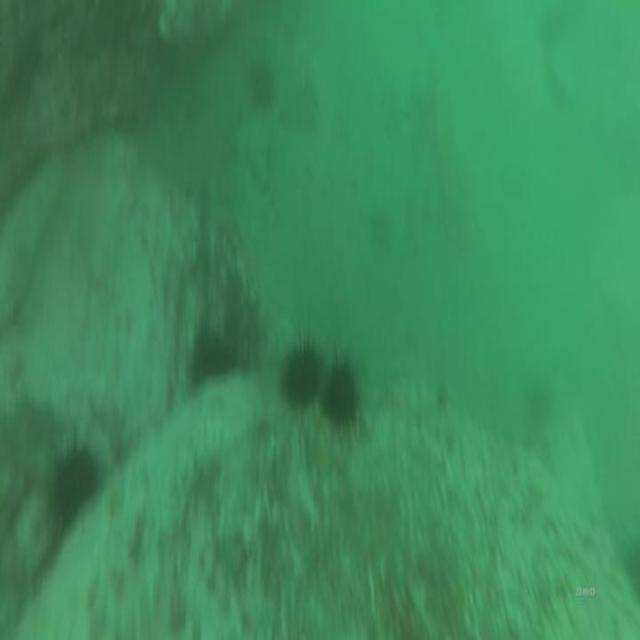echinus: (45, 430, 103, 531), (318, 350, 363, 446), (280, 329, 324, 417), (186, 328, 238, 388), (246, 56, 281, 112)
